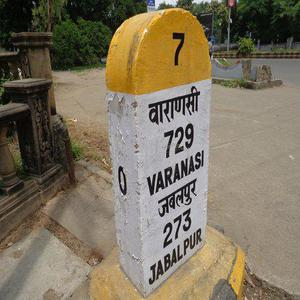kmstone: (102, 10, 216, 291)
